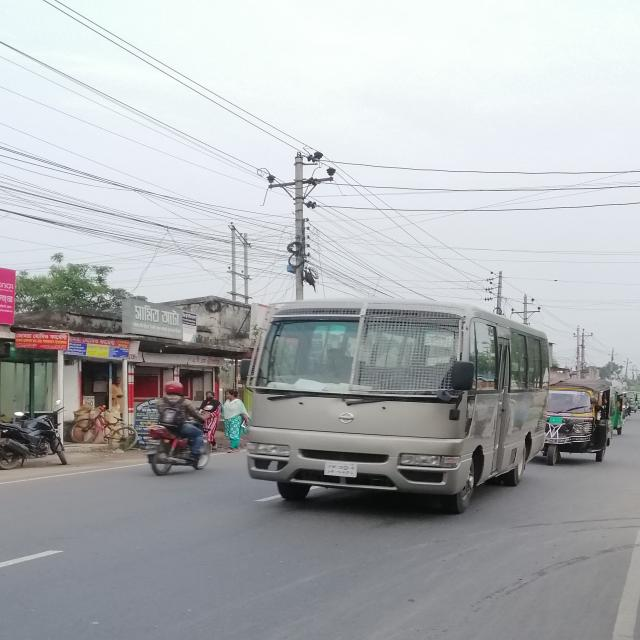Mini-Bus: (229, 298, 560, 507)
